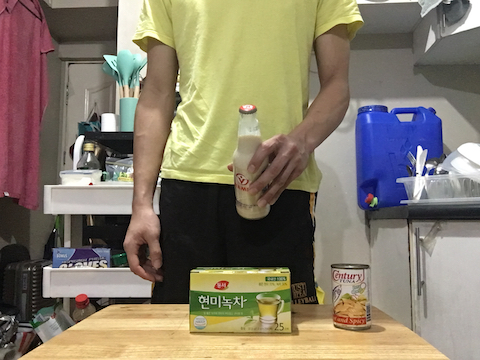bottle: (232, 99, 272, 222)
box: (184, 266, 299, 337)
can: (329, 259, 372, 334)
grab: (245, 131, 304, 210)
